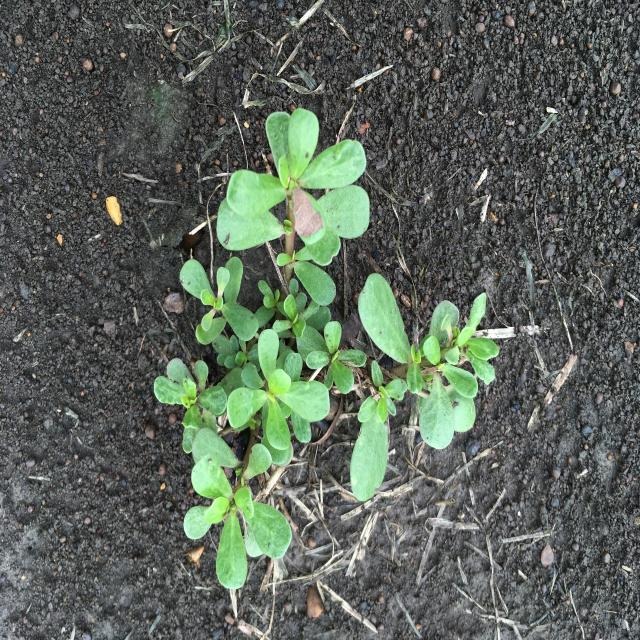Purslane: (154, 107, 499, 590)
